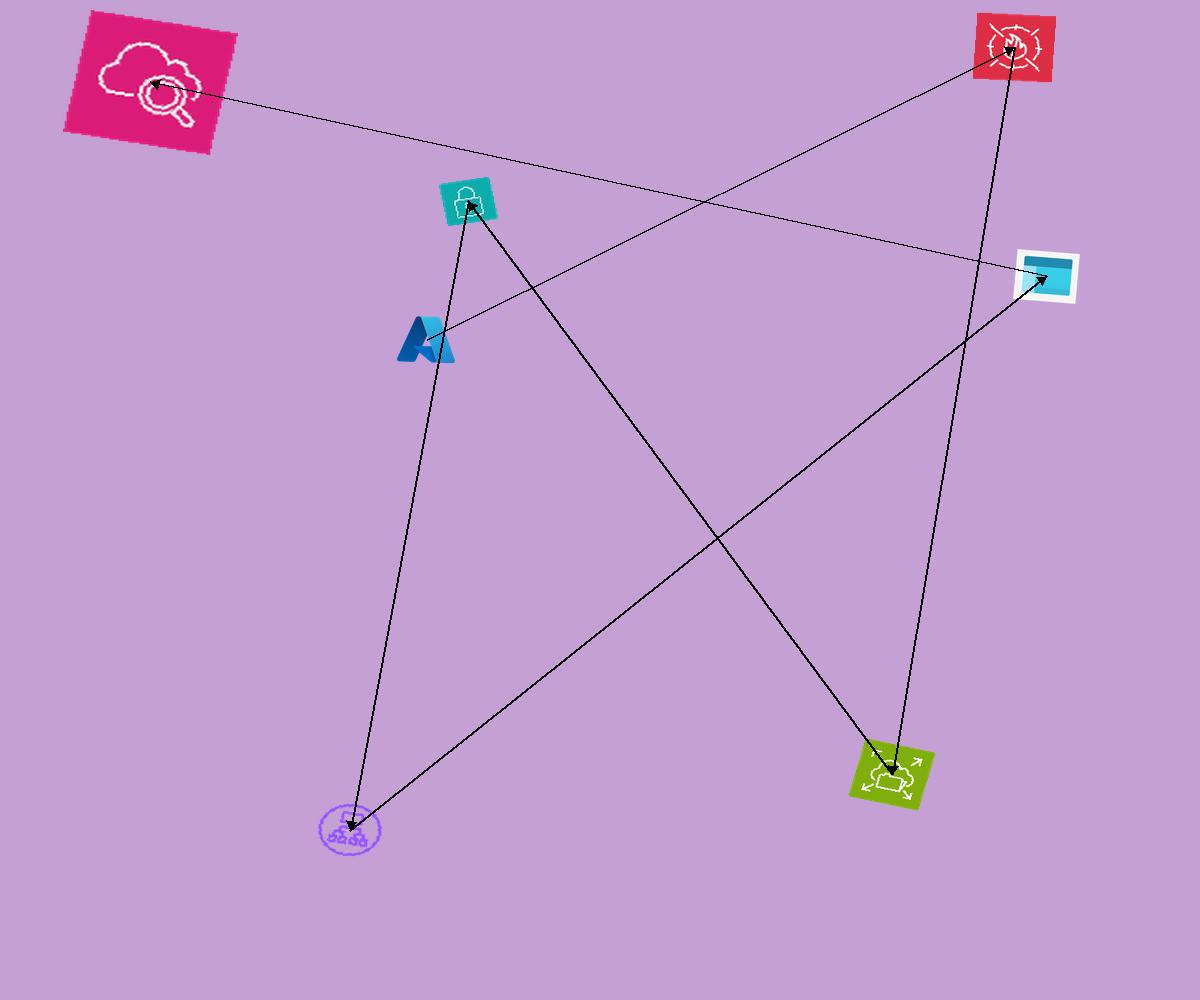AWS-CloudWatch: (63, 10, 238, 155)
AWS-EFS: (848, 738, 936, 811)
AWS-Private-subnet: (438, 176, 499, 227)
AWS-Res_Elastic-Load-Balancing_Application-Load-Balancer: (310, 797, 390, 863)
AWS-WAF: (972, 12, 1057, 83)
Azure_management-portal: (1013, 249, 1080, 304)
Azure_services: (394, 312, 460, 367)
